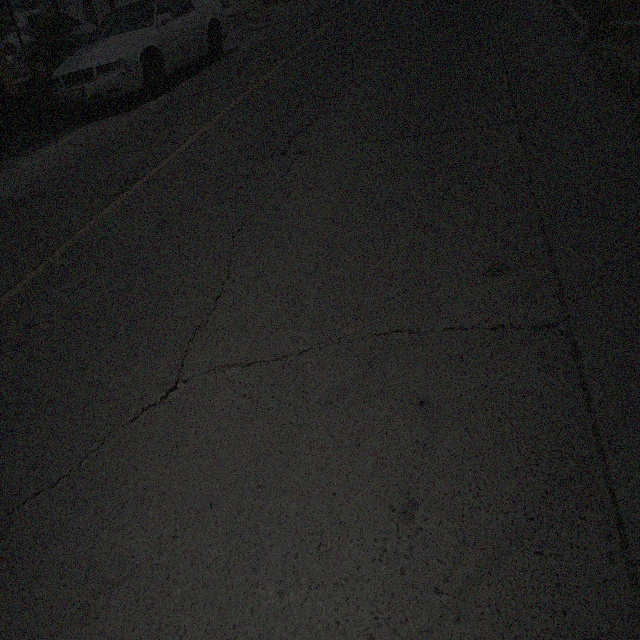pothole: (161, 368, 188, 401)
